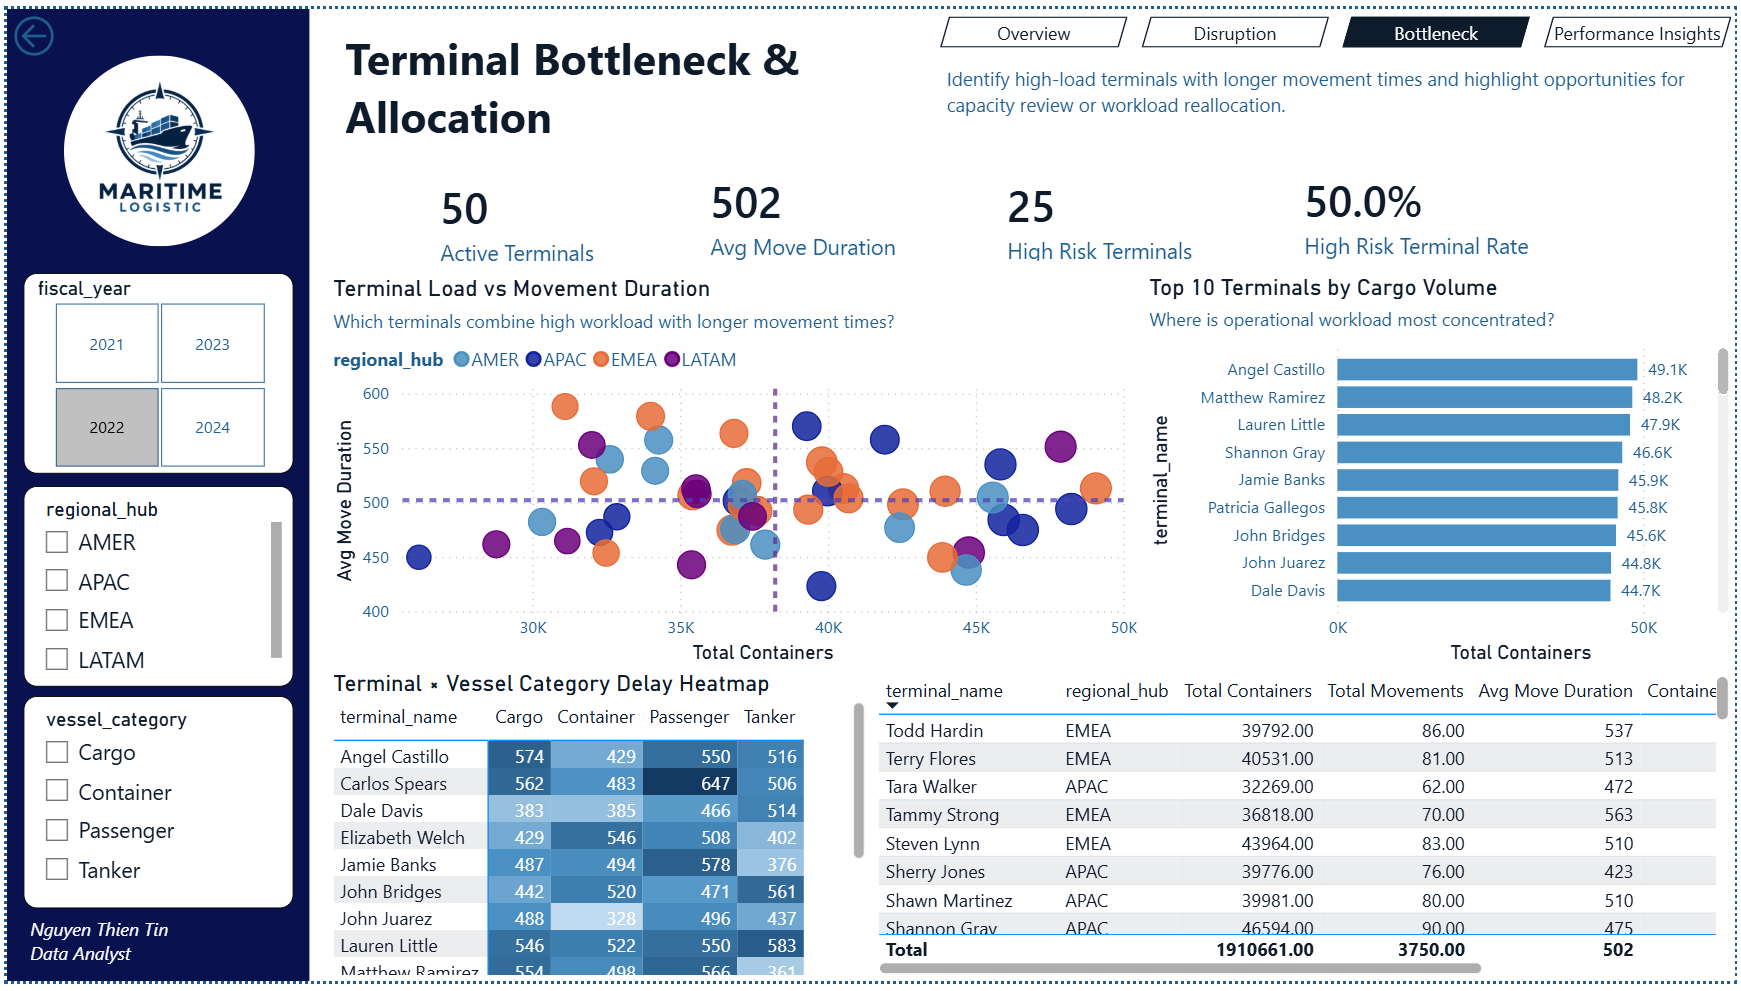

Layout of this report page (visuals, bound fields, positions):
{"tool":"powerbi","page":{"name":"Bottleneck","canvas":[1280,720],"ordinal":2},"visuals":[{"type":"shape","title":"BG1","box":[0,0,224.3,720],"z":0},{"type":"cardVisual","fields":{"Data":["_Measures.High Risk Terminals"]},"box":[720,115,220,80],"z":1000},{"type":"cardVisual","fields":{"Data":["_Measures.Active Terminals"]},"box":[300,115,200,84],"z":2000},{"type":"cardVisual","fields":{"Data":["_Measures.Avg Move Duration"]},"box":[500,111.2,220,84],"z":3000},{"type":"cardVisual","fields":{"Data":["_Measures.High Risk Terminal Rate"]},"box":[940,111.2,266.2,83.8],"z":4000},{"type":"slicer","fields":{"Values":["dim_time.fiscal_year"]},"box":[12.5,195,200,148.8],"z":5000},{"type":"slicer","fields":{"Values":["dim_terminal.regional_hub"]},"box":[12.5,353.8,200,148.8],"z":6000},{"type":"slicer","fields":{"Values":["dim_vessel.vessel_category"]},"box":[12.5,508.8,200,157.5],"z":7000},{"type":"image","box":[42.2,34.4,141.1,141.1],"z":8000},{"type":"textbox","box":[245.6,8.9,445.6,106.7],"z":9000},{"type":"textbox","box":[12.5,666.2,156.2,53.8],"z":10000},{"type":"textbox","box":[691.2,36.2,588.8,48.8],"z":11000},{"type":"actionButton","box":[0,0,100,40],"z":12000},{"type":"pageNavigator","box":[691.2,5,588.8,23.8],"z":13000},{"type":"scatterChart","title":"Terminal Load vs Movement Duration","fields":{"Category":["dim_terminal.terminal_name"],"X":["_Measures.Total Containers"],"Y":["_Measures.Avg Move Duration"],"Size":["_Measures.Total Movements"],"Series":["dim_terminal.regional_hub"]},"box":[236.2,196.2,605,292.5],"z":14000},{"type":"clusteredBarChart","title":"Top 10 Terminals by Cargo Volume","fields":{"Category":["dim_terminal.terminal_name"],"Y":["_Measures.Total Containers"]},"box":[841.2,195,438.8,293.8],"z":15000},{"type":"pivotTable","title":"Terminal × Vessel Category Delay Heatmap","fields":{"Rows":["dim_terminal.terminal_name"],"Columns":["dim_vessel.vessel_category"],"Values":["_Measures.Avg Move Duration"]},"box":[236.2,488.8,403.8,231.2],"z":16000},{"type":"tableEx","fields":{"Values":["dim_terminal.terminal_name","dim_terminal.regional_hub","_Measures.Total Containers","_Measures.Total Movements","_Measures.Avg Move Duration","_Measures.Containers per Day","_Measures.Terminal Action"]},"box":[640,488.8,640,231.2],"z":17000}]}

Visuals, with their boxes in screenshot pixels (x1, y1, x2, y2), scaled from the page's 1280x720 canvas onto the 1741x991 screenshot:
"BG1" shape: [0, 0, 305, 990]
cardVisual - _Measures.High Risk Terminals: [979, 158, 1279, 268]
cardVisual - _Measures.Active Terminals: [408, 158, 680, 274]
cardVisual - _Measures.Avg Move Duration: [680, 153, 979, 269]
cardVisual - _Measures.High Risk Terminal Rate: [1279, 153, 1641, 268]
slicer - dim_time.fiscal_year: [17, 268, 289, 473]
slicer - dim_terminal.regional_hub: [17, 487, 289, 692]
slicer - dim_vessel.vessel_category: [17, 700, 289, 917]
image: [57, 47, 249, 242]
textbox: [334, 12, 940, 159]
textbox: [17, 917, 229, 990]
textbox: [940, 50, 1740, 117]
actionButton: [0, 0, 136, 55]
pageNavigator: [940, 7, 1740, 40]
"Terminal Load vs Movement Duration" scatterChart: [321, 270, 1144, 673]
"Top 10 Terminals by Cargo Volume" clusteredBarChart: [1144, 268, 1740, 673]
"Terminal × Vessel Category Delay Heatmap" pivotTable: [321, 673, 870, 990]
tableEx - dim_terminal.terminal_name x dim_terminal.regional_hub: [870, 673, 1740, 990]
